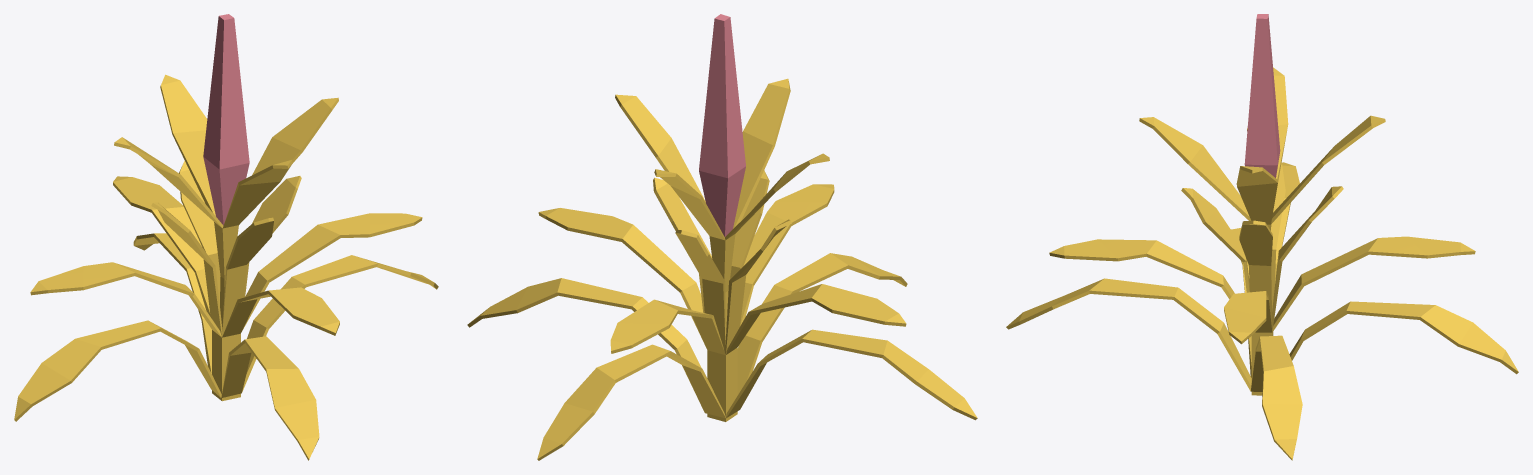
The model's file is fleurs_hautes.glb.
The picture shows the model from 3 angles, left to right: view 1: azimuth 30°, elevation 25°; view 2: azimuth 150°, elevation 25°; view 3: azimuth 270°, elevation 25°; orthographic projection. The views are drawn at different scales.
Visible parts, largest first — view 1: fleurs_hautes; view 2: fleurs_hautes; view 3: fleurs_hautes.
Part boxes in pixels (x1,y1,x2,y2): fleurs_hautes: (14,14,438,460); fleurs_hautes: (467,14,977,460); fleurs_hautes: (1006,14,1518,460).
Bounding box in the file's own units: 0.9438 × 0.75 × 0.9302.
